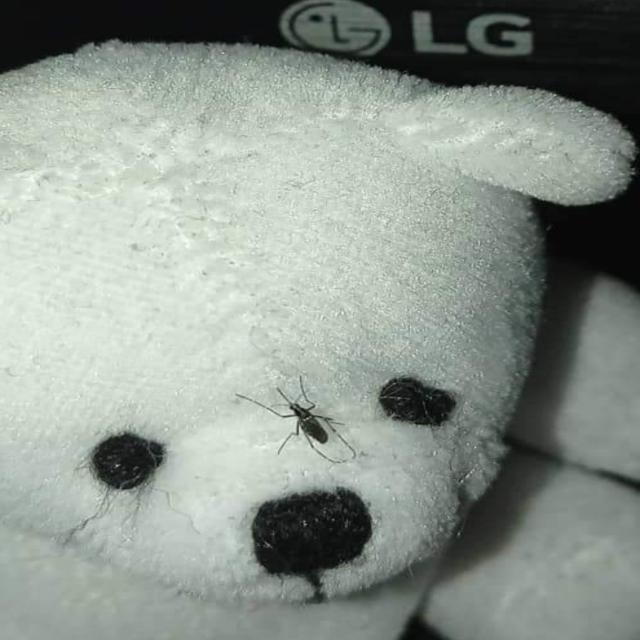albopictus: (231, 367, 362, 462)
